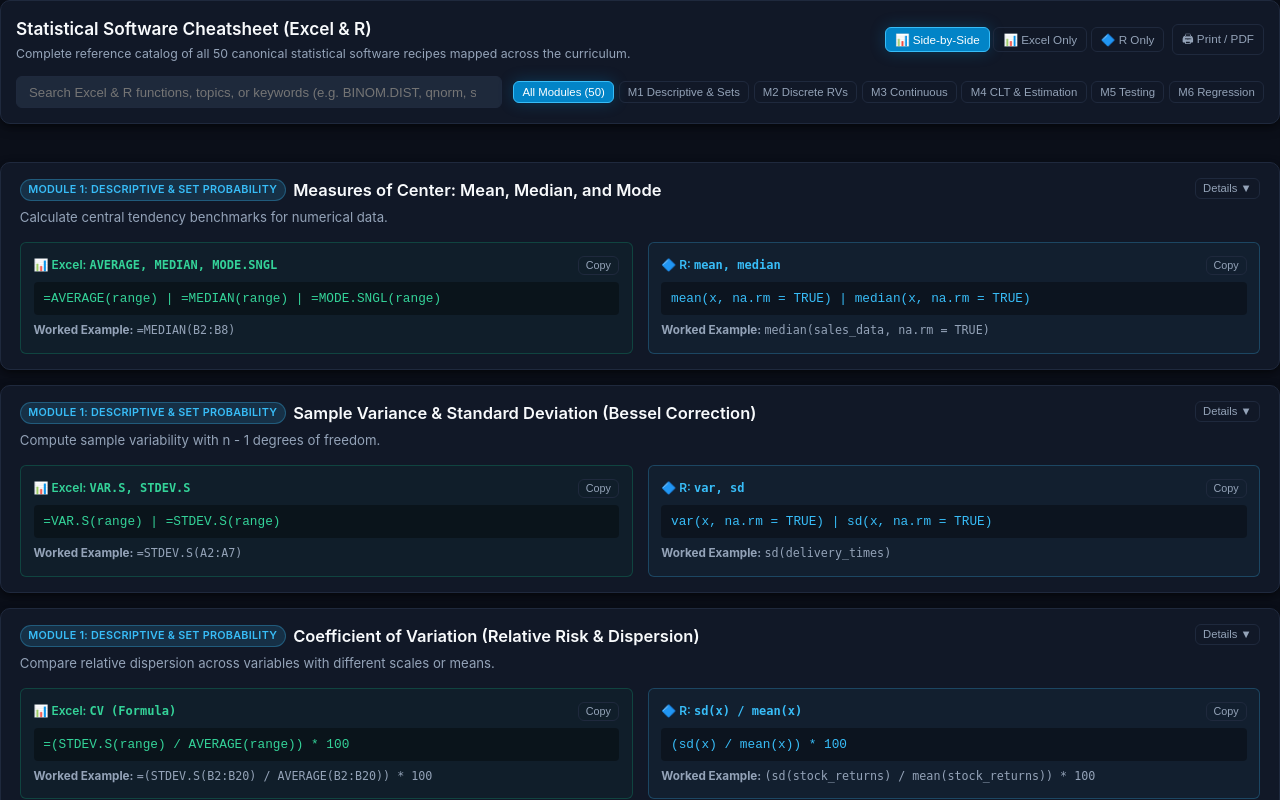
SoftwareCheatsheetCatalog › expands recipe details showing argument descriptions and pitfalls
Click the 1st button "Details ▼": [1227, 188] box [1195,178,1260,199]
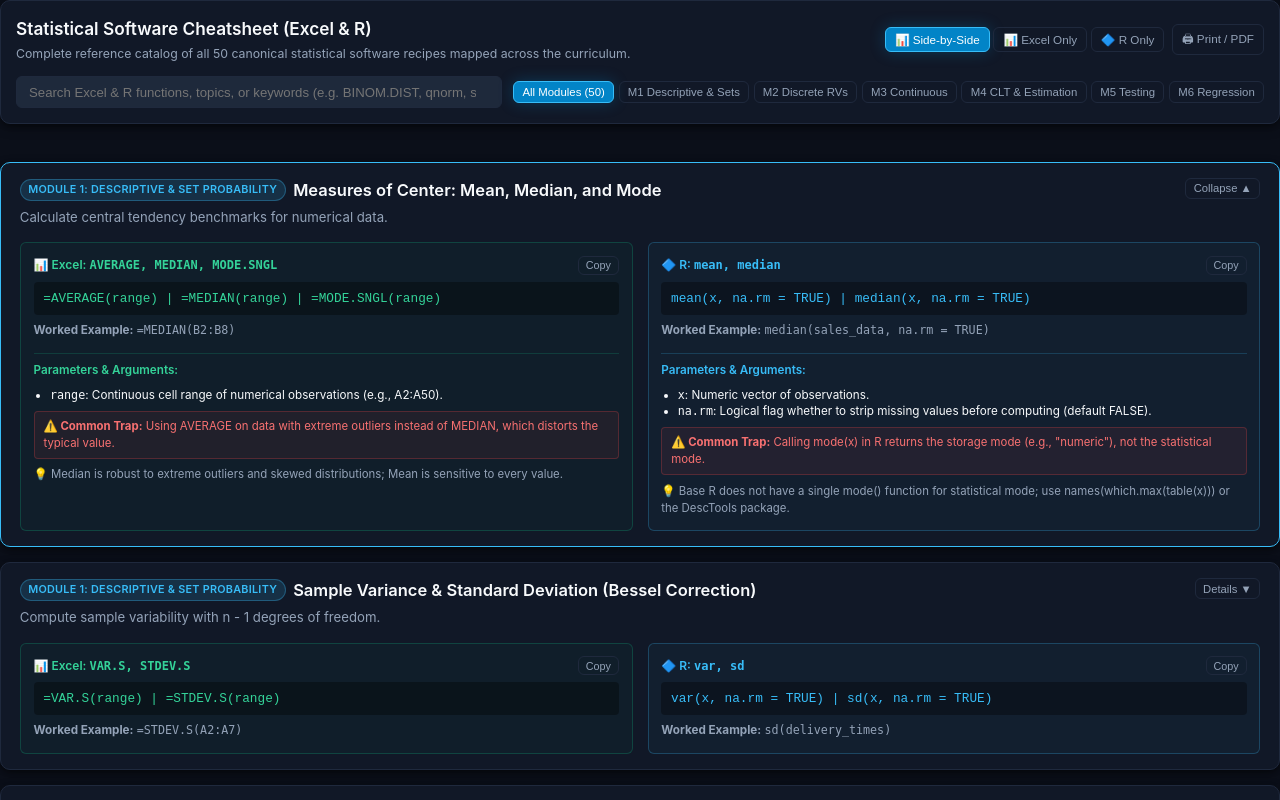
Result: the text "Parameters & Arguments:" below "=MEDIAN(B2:B8)" is shown at [34,363,178,377]
